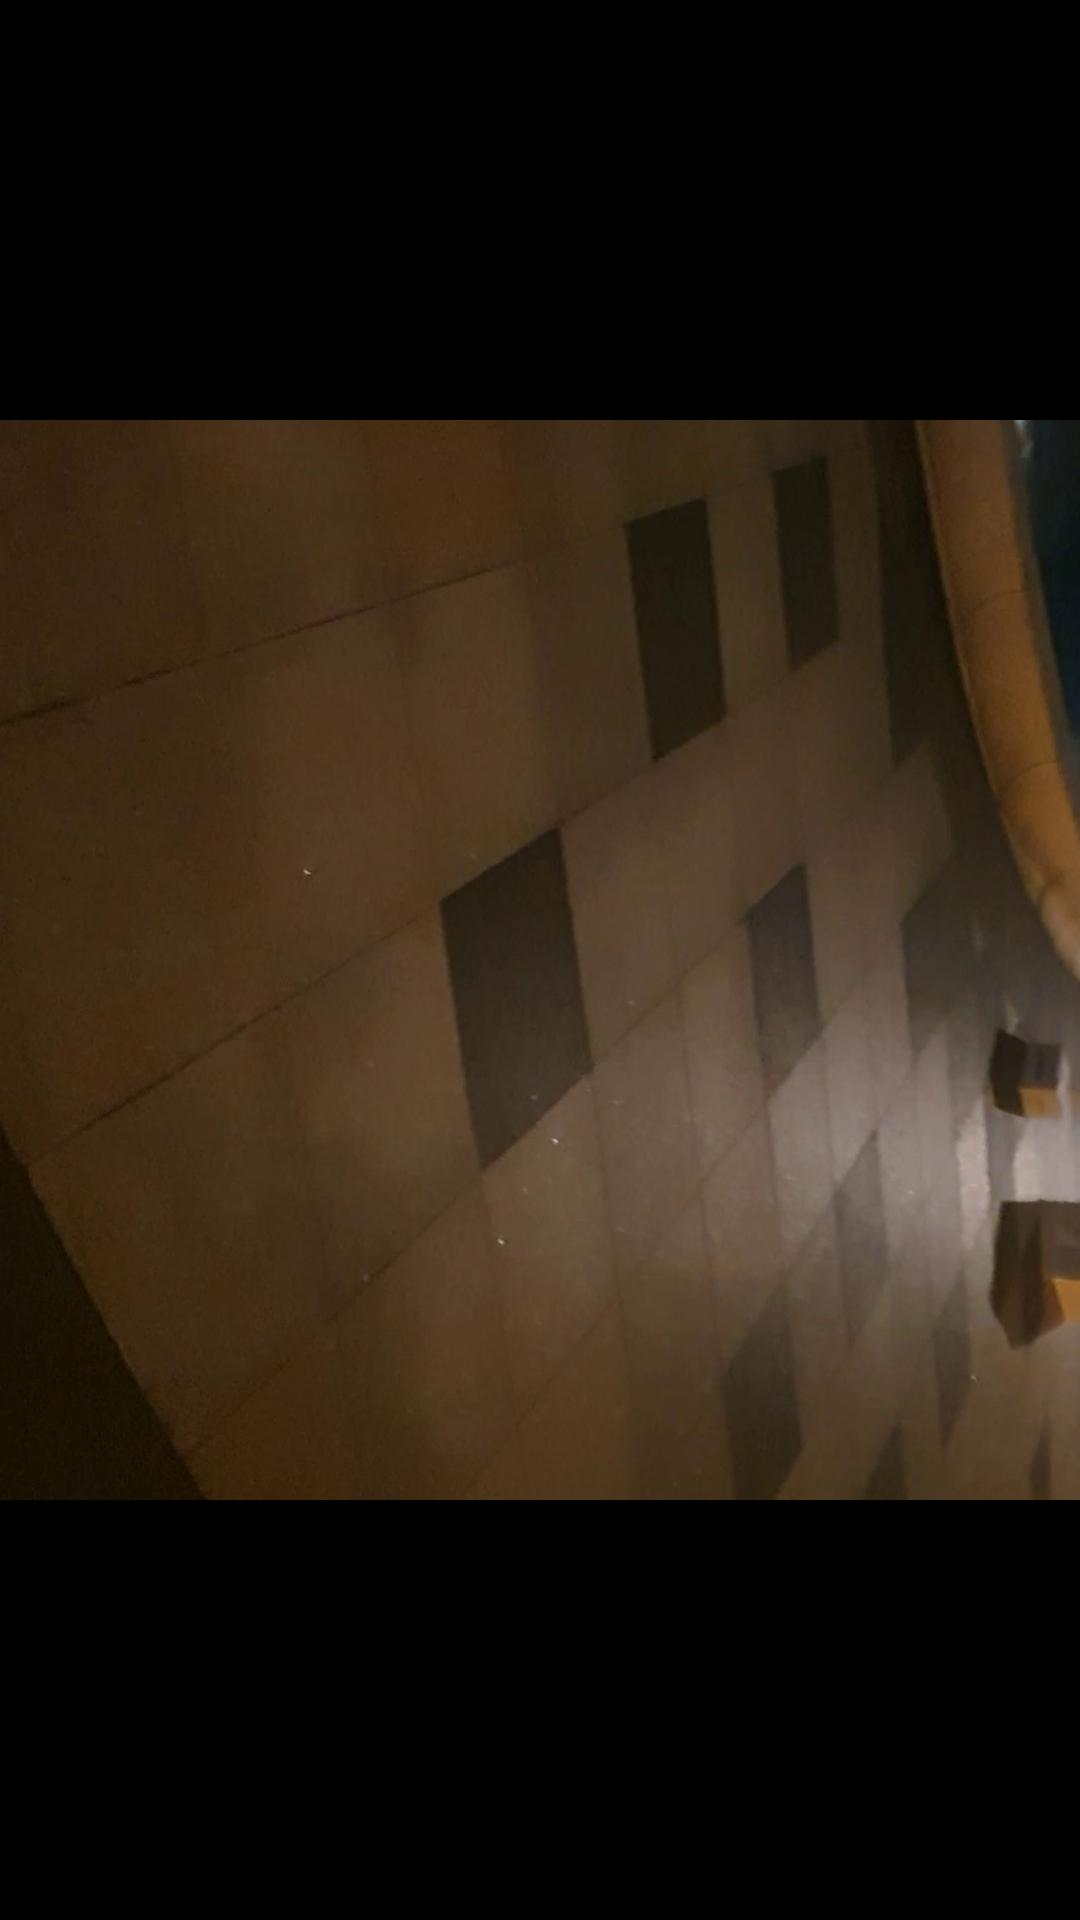Box: (990, 1036, 1080, 1130), (1021, 1203, 1080, 1335)
